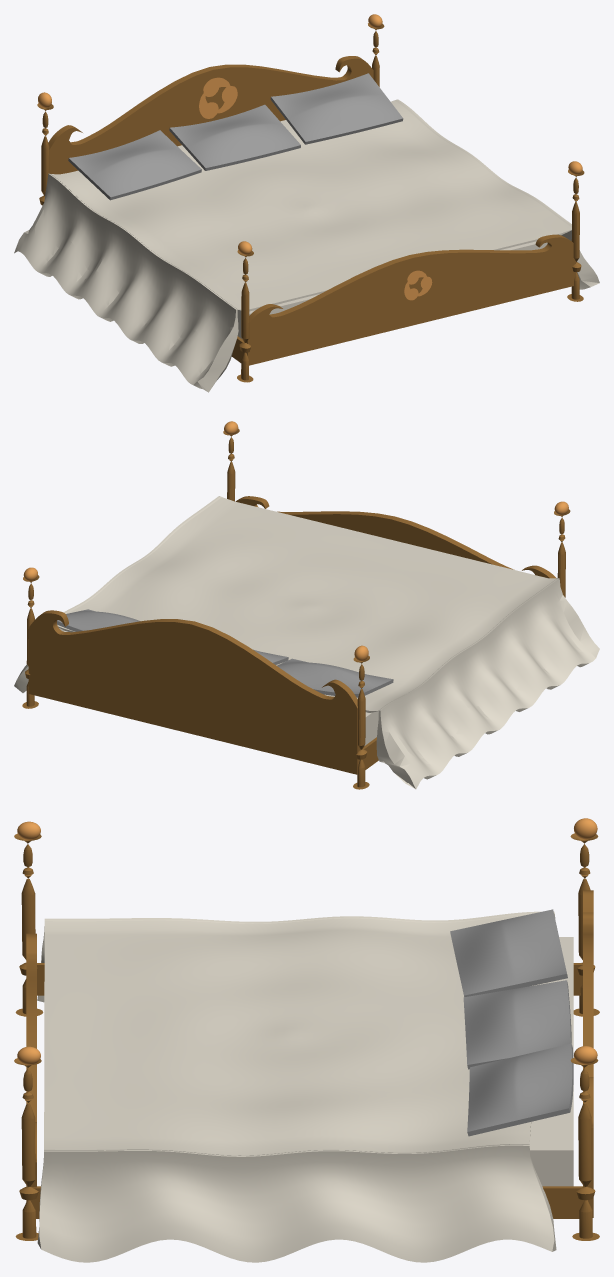
Rendered from 6371_Bed.dae.
The picture shows the model from 3 angles, top to bottom: view 1: azimuth 30°, elevation 25°; view 2: azimuth 150°, elevation 25°; view 3: azimuth 270°, elevation 25°; orthographic projection. The views are drawn at different scales.
Parts seen in each view (by area): view 1: S_Box04, S_Line09, S_Line02, S_Box07, S_Box05, S_Box06, S_Line11, S_Line10, S_Box03, S_Line01; view 2: S_Box04, S_Line02, S_Line09, S_Box05, S_Box07, S_Line01, S_Line05, S_Line11; view 3: S_Box04, S_Box05, S_Box07, S_Box06, S_Box03, S_Line02, S_Line05, S_Line10, S_Line09, S_Line11, S_Box02, S_Line01.
Part boxes in pixels (box(x1,y1,x2,y2)): S_Box04: box(14, 99, 599, 392); S_Line09: box(246, 234, 575, 365); S_Line02: box(43, 56, 373, 195); S_Box07: box(270, 73, 403, 144); S_Box05: box(68, 130, 201, 200); S_Box06: box(169, 104, 300, 170); S_Line11: box(237, 250, 253, 382); S_Line10: box(567, 169, 584, 301); S_Box03: box(72, 120, 547, 339); S_Line01: box(37, 103, 53, 205); S_Box04: box(14, 496, 599, 789); S_Line02: box(28, 610, 360, 774); S_Line09: box(235, 496, 556, 578); S_Box05: box(277, 658, 393, 697); S_Box07: box(57, 609, 140, 631); S_Line01: box(353, 655, 369, 789); S_Line05: box(22, 575, 39, 708); S_Line11: box(554, 509, 570, 597); S_Box04: box(37, 911, 556, 1262); S_Box05: box(450, 909, 567, 997); S_Box07: box(467, 1043, 573, 1136); S_Box06: box(463, 980, 571, 1069); S_Box03: box(529, 937, 573, 1186); S_Line02: box(583, 890, 593, 1217); S_Line05: box(570, 1058, 599, 1240); S_Line10: box(14, 1058, 41, 1240); S_Line09: box(26, 933, 36, 1201); S_Line11: box(14, 833, 43, 1016); S_Box02: box(30, 1186, 584, 1218); S_Line01: box(570, 833, 599, 1016).
Bounding box in the file's own units: 40.27 × 14.29 × 36.5.
